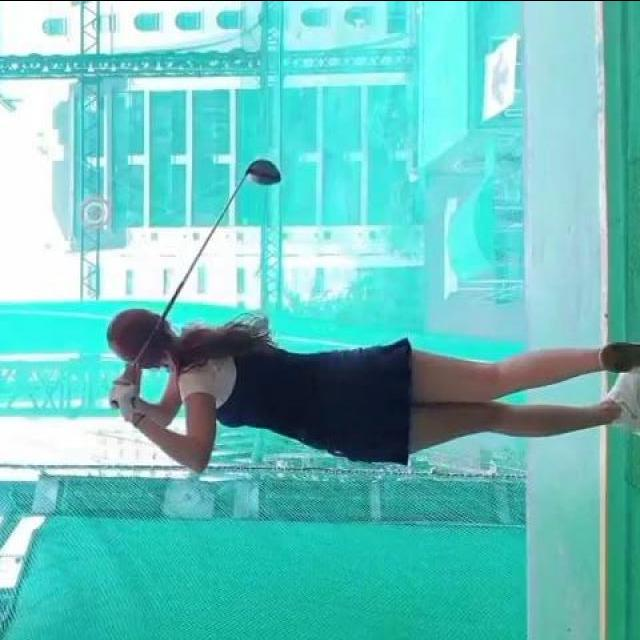golf club-handle: (111, 157, 281, 408)
golf club-head: (248, 158, 281, 185)
